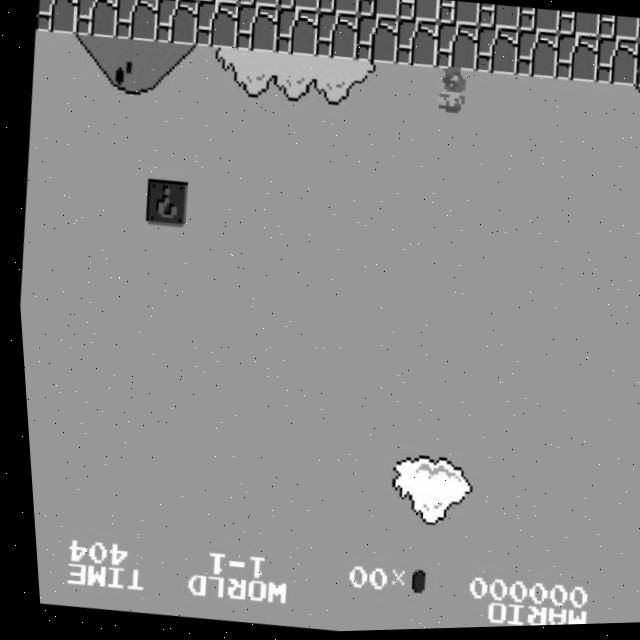11- little_mario: (426, 66, 478, 121)
13- mystery_block: (139, 177, 188, 229)
17- undestructible_block: (591, 39, 640, 91), (511, 31, 560, 83), (431, 23, 480, 75), (552, 35, 600, 87), (472, 27, 520, 79), (392, 19, 440, 71), (352, 15, 400, 67), (312, 11, 360, 63), (272, 7, 320, 59), (232, 4, 280, 56), (192, 0, 240, 52), (152, 0, 201, 47), (112, 0, 160, 43), (72, 0, 120, 39), (33, 0, 81, 36), (516, 9, 561, 38), (436, 1, 481, 30), (596, 17, 640, 46), (556, 13, 600, 42), (476, 5, 520, 34), (396, 0, 440, 26), (356, 0, 401, 22), (316, 0, 360, 18), (276, 0, 320, 14), (631, 44, 640, 95), (237, 0, 281, 9), (197, 0, 241, 5), (157, 0, 200, 2)
